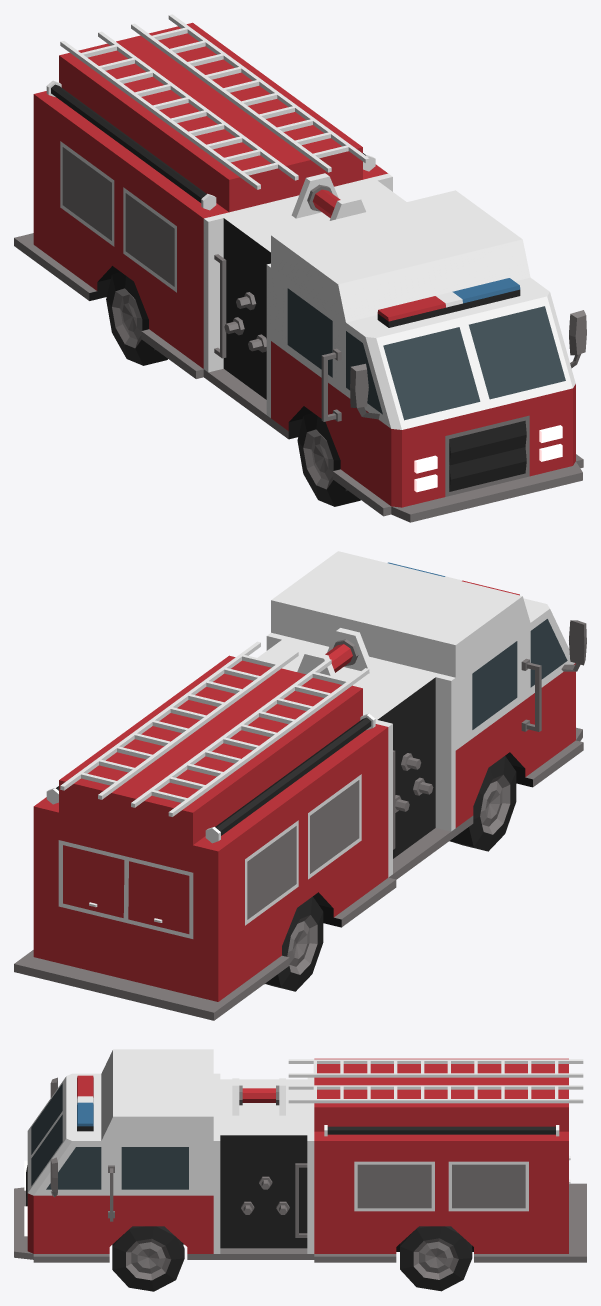
File: vehicles_firetruck.fbx
3 renders of one model, top to bottom at view 1: azimuth 30°, elevation 25°; view 2: azimuth 150°, elevation 25°; view 3: azimuth 270°, elevation 25°, orthographic. The views are drawn at different scales.
Visible parts, largest first — view 1: firetruck_base, firetruckwheel_FR, firetruck_wheel_BR; view 2: firetruck_base, firetruckwheel_FR, firetruck_wheel_BR; view 3: firetruck_base, firetruck_wheel_FL, firetruck_wheel_BL.
Part boxes in pixels (bbox=[...]): firetruck_base: bbox=[14, 14, 586, 522]; firetruckwheel_FR: bbox=[297, 412, 360, 506]; firetruck_wheel_BR: bbox=[106, 272, 167, 365]; firetruck_base: bbox=[14, 551, 586, 1020]; firetruckwheel_FR: bbox=[449, 756, 516, 851]; firetruck_wheel_BR: bbox=[264, 896, 323, 991]; firetruck_base: bbox=[14, 1049, 586, 1262]; firetruck_wheel_FL: bbox=[112, 1226, 184, 1291]; firetruck_wheel_BL: bbox=[400, 1226, 472, 1291].
Bounding box in the file's own units: 70.7 × 69.6 × 200.
